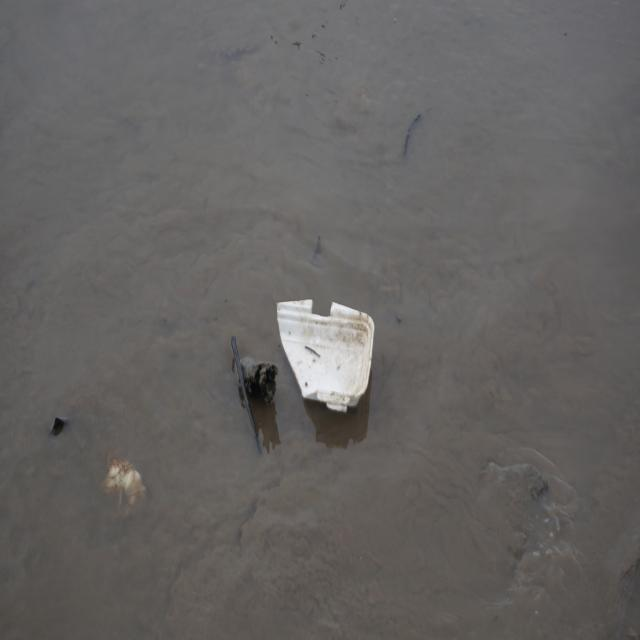Bungkus Makanan: (276, 290, 377, 420)
